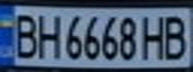6: (81, 11, 103, 61), (63, 11, 84, 61), (100, 12, 121, 61)
8: (118, 12, 142, 61)
B: (9, 9, 42, 60), (160, 12, 190, 61)
H: (33, 10, 63, 60), (139, 12, 169, 61)
